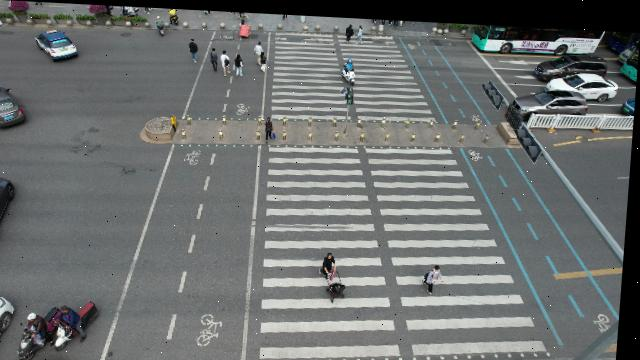non-motor-vehicle: (61, 299, 104, 337), (330, 279, 350, 300), (342, 58, 357, 81), (167, 7, 180, 23), (239, 23, 253, 37), (157, 20, 168, 35), (343, 58, 357, 69), (240, 13, 249, 23)
person: (427, 261, 451, 290), (326, 248, 341, 268), (187, 37, 199, 59), (210, 52, 220, 70), (235, 53, 245, 71), (345, 23, 355, 40), (222, 56, 232, 73), (500, 36, 513, 49), (253, 40, 264, 55), (188, 35, 198, 51), (210, 48, 219, 64), (268, 119, 277, 132), (236, 50, 245, 62), (267, 116, 276, 126), (221, 48, 228, 58), (358, 20, 365, 29), (272, 128, 278, 137)
